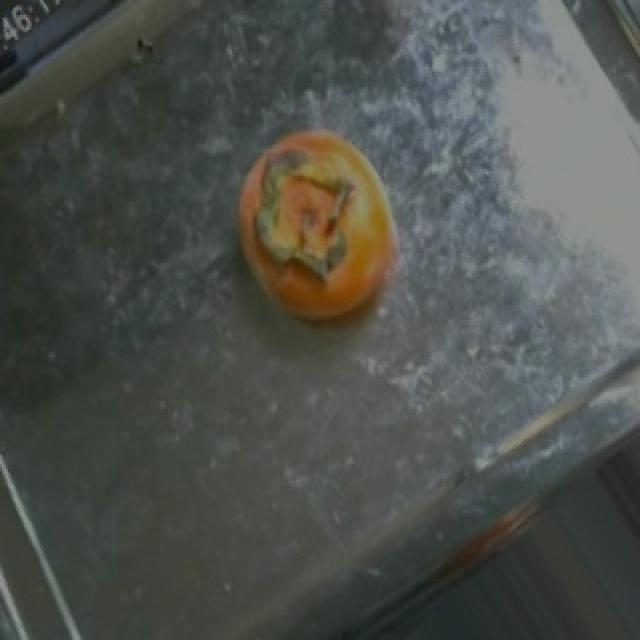Fruit: (210, 112, 428, 350)
